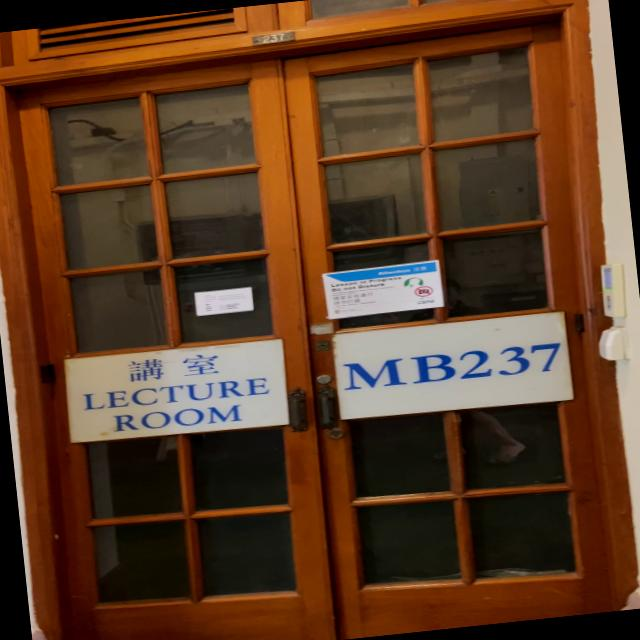room237: (248, 29, 298, 48)
room237Window: (338, 333, 566, 401)
